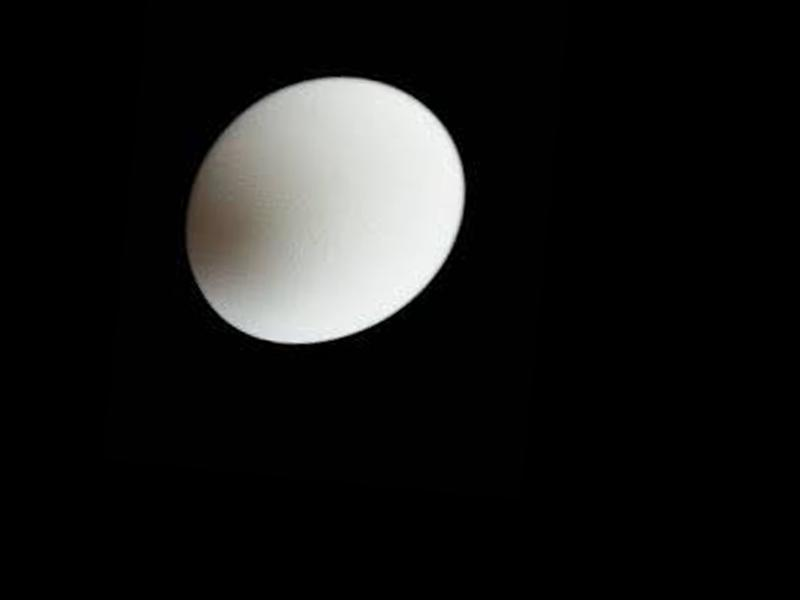Eggs: (179, 64, 475, 360)
